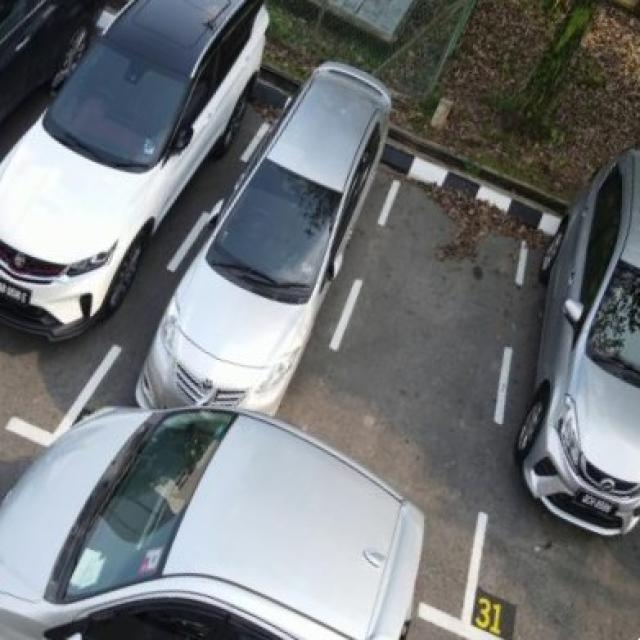Legalparking: (0, 0, 640, 489)
illegalparking: (0, 376, 454, 640)
